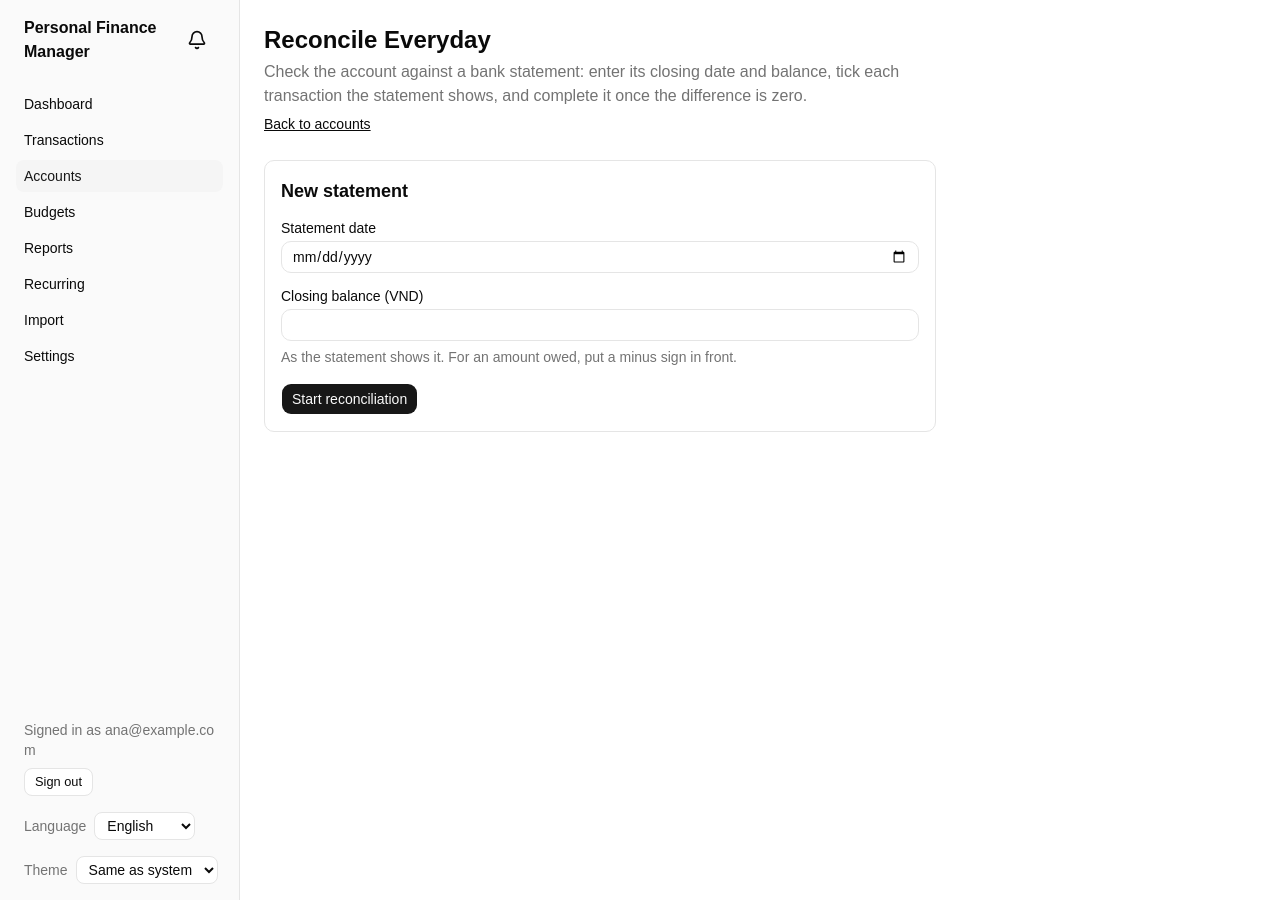
Test: reconciling an account › completes only at a difference of zero, and locks the ticked transactions
The width and height of the screenshot is (1280, 900).
In the date field labelled "Statement date": coordinates (600, 257) [281,241,919,273], type "2026-10-31"
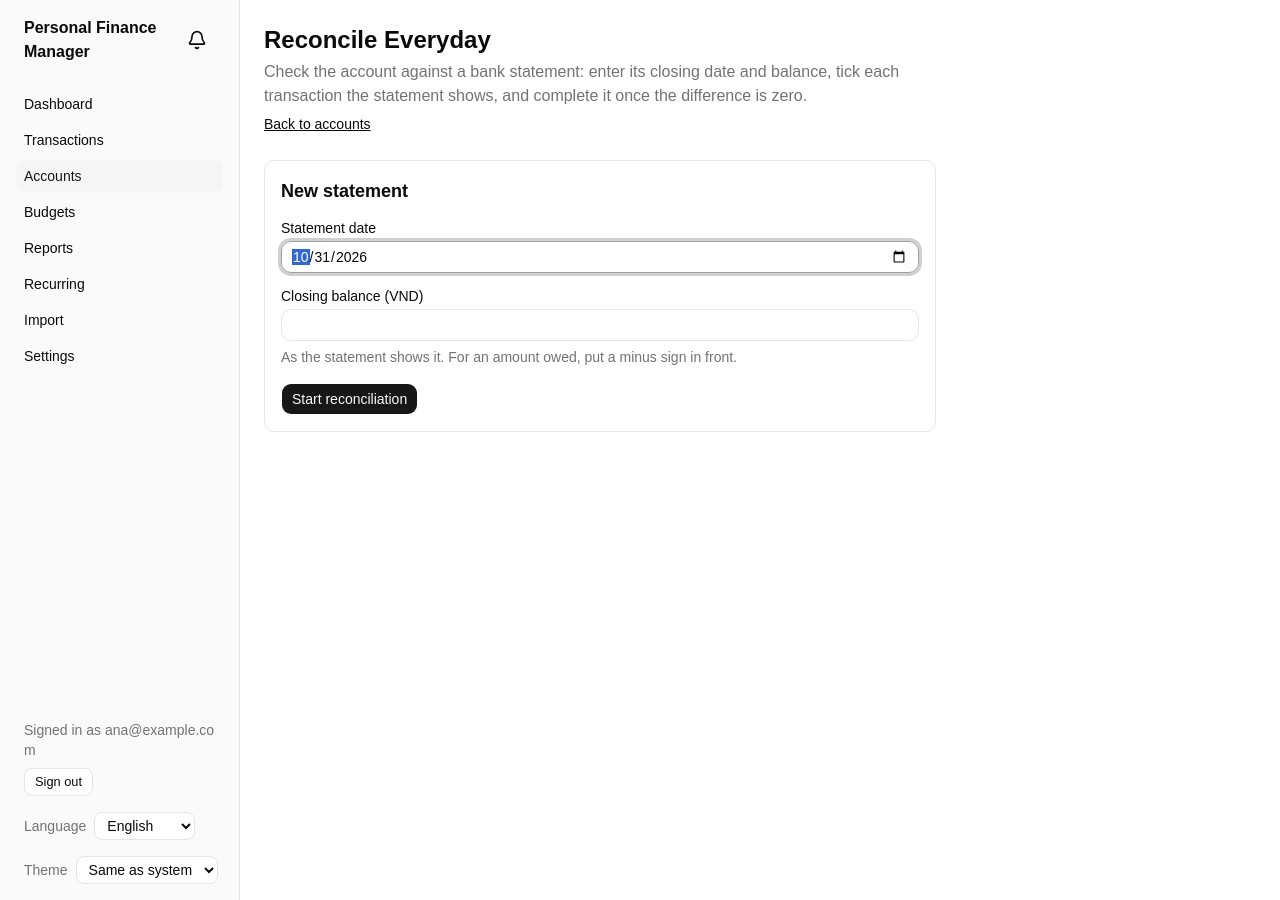
In the field labelled "Closing balance (VND)": coordinates (600, 325) [281,309,919,341], type "5,500,000"
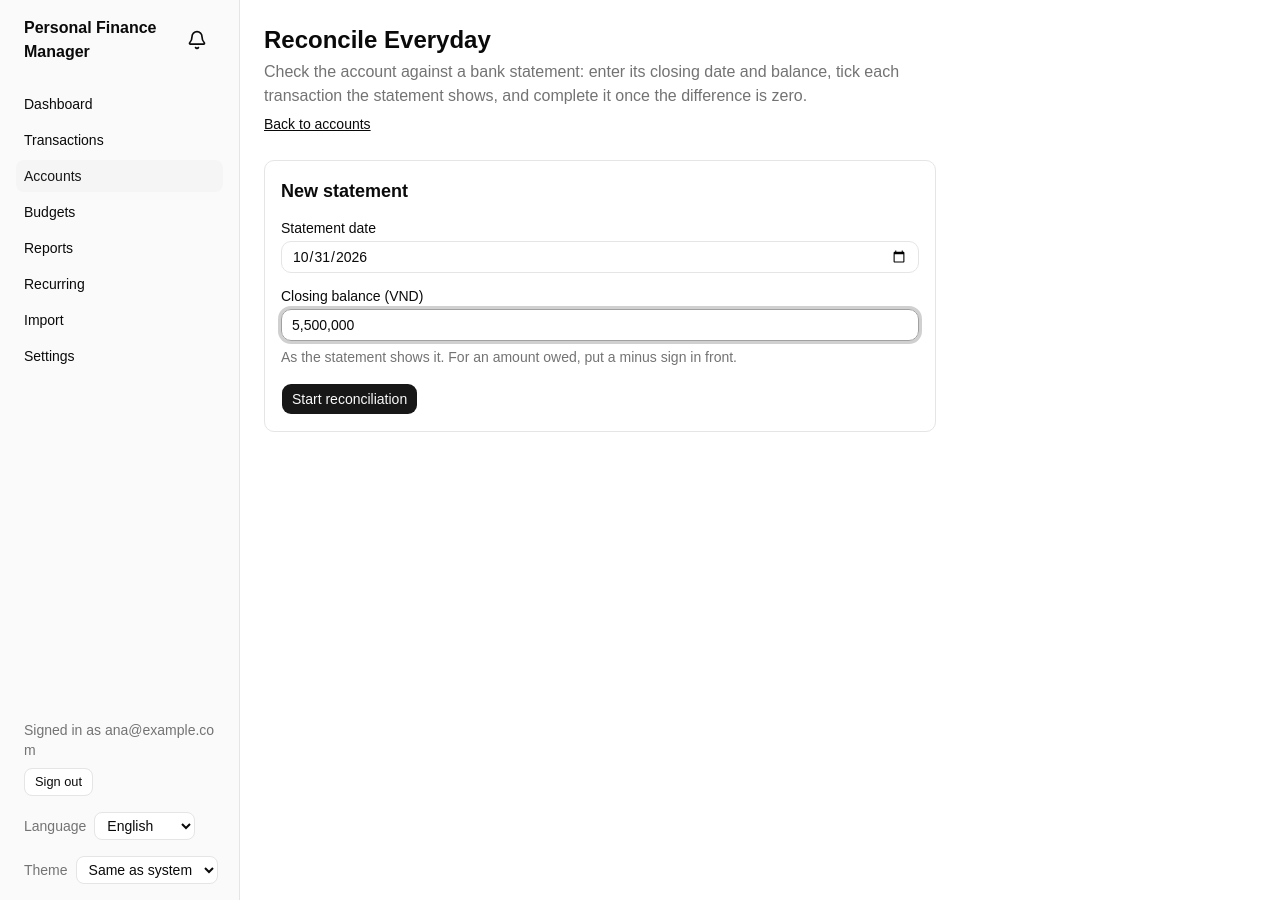
Click the button "Start reconciliation": coordinates (350, 399) [281,383,418,415]
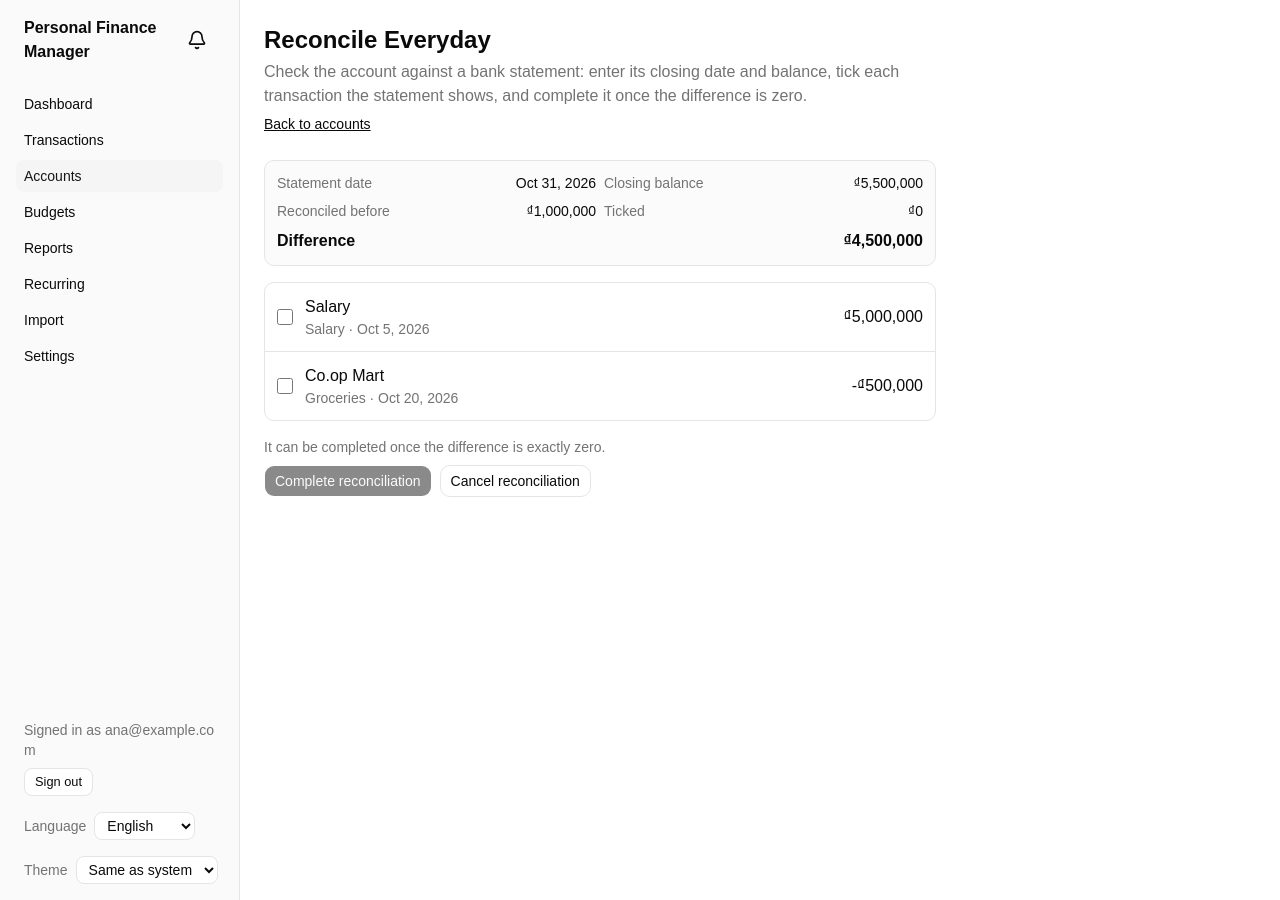
Click the checkbox named "Tick Salary": coordinates (285, 317) [277,309,293,325]
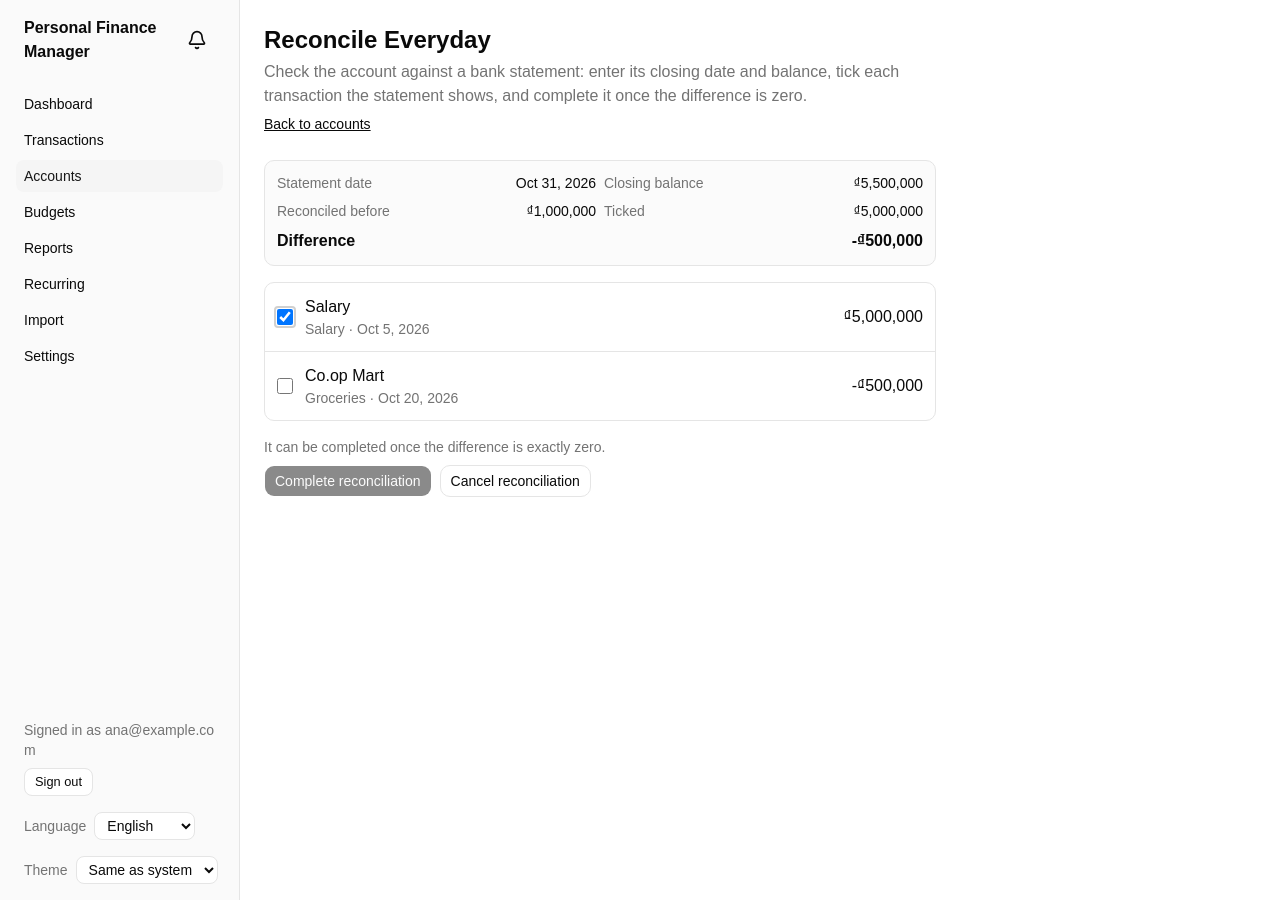
Click the checkbox named "Tick Co.op Mart": coordinates (285, 386) [277,378,293,394]
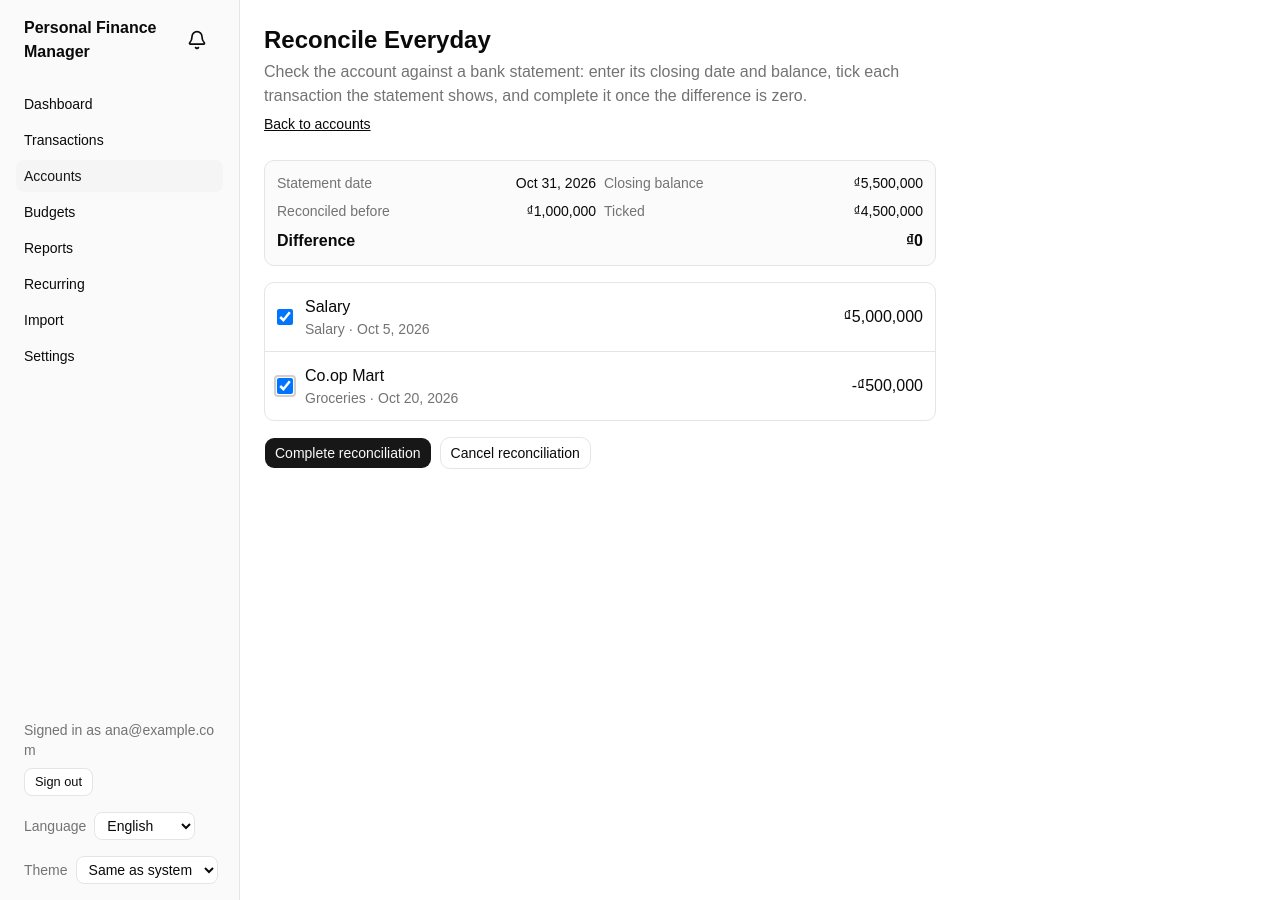
Result: the button "Complete reconciliation" is enabled
Click the button "Complete reconciliation": coordinates (348, 453) [264,437,432,469]
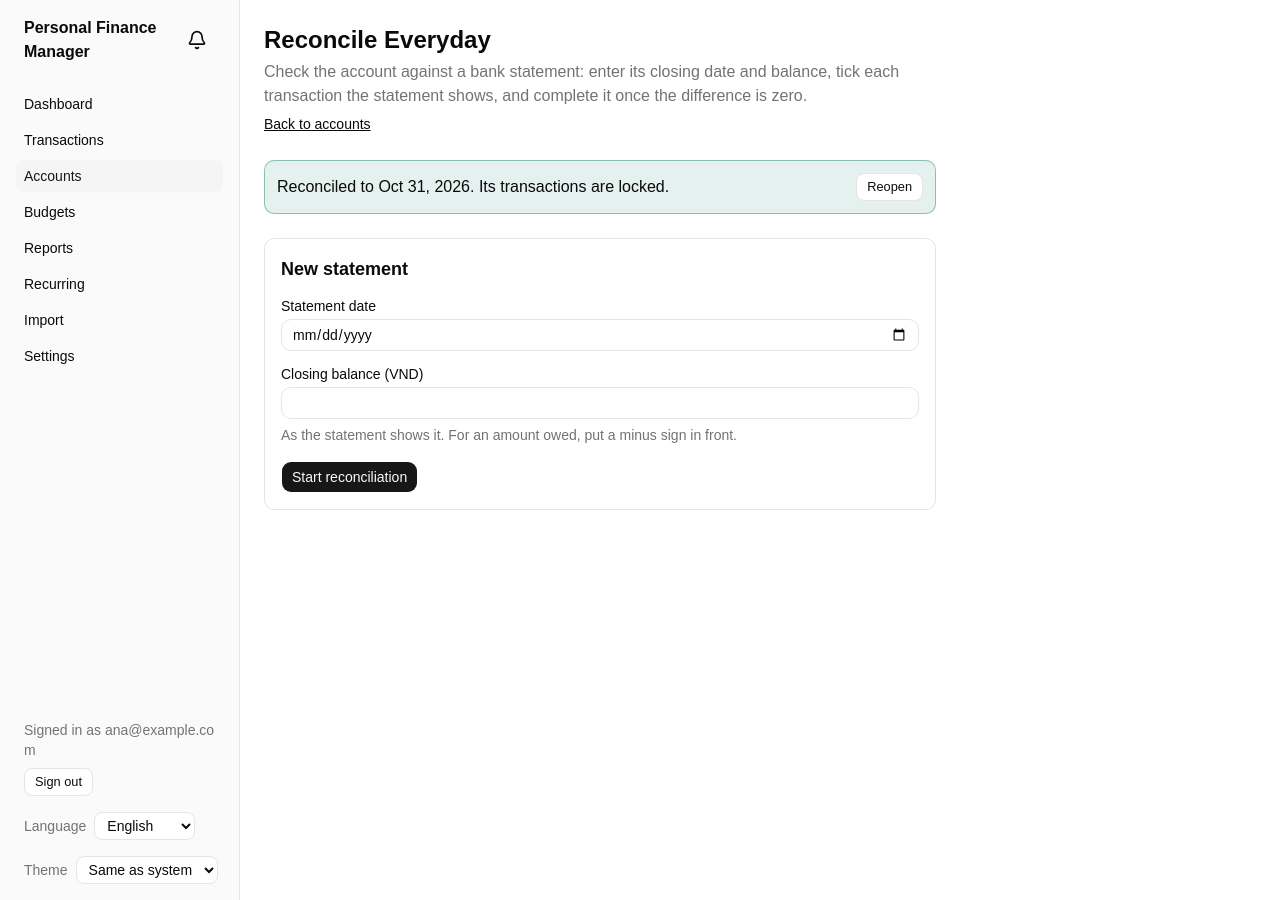
Result: the text "Reconciled to Oct 31, 2026. Its transactions are locked." is shown at [277,178,669,195]
Result: the date field labelled "Statement date" is shown at [281,319,919,351]
